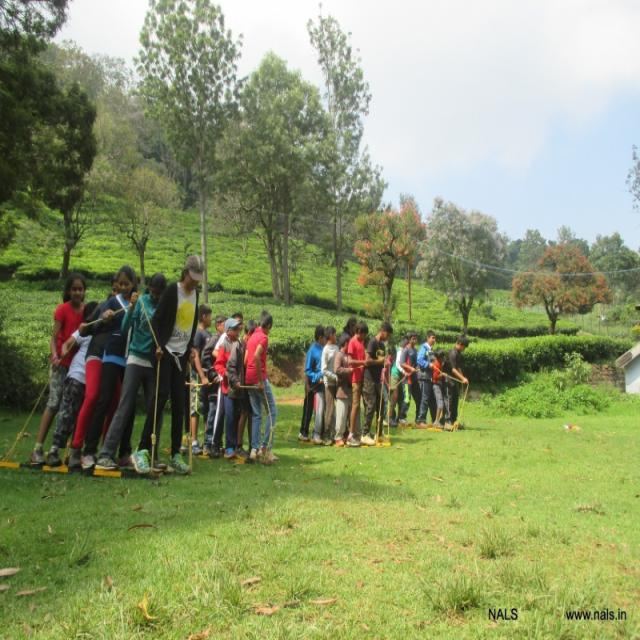body: (128, 252, 206, 477), (93, 270, 168, 472), (78, 264, 140, 472), (64, 273, 126, 473), (28, 270, 86, 465), (42, 300, 102, 468), (242, 307, 280, 465), (207, 312, 244, 458), (225, 319, 258, 462), (358, 320, 393, 447), (212, 317, 242, 461), (186, 305, 213, 459), (201, 316, 229, 456), (332, 331, 362, 448), (345, 320, 370, 447), (304, 322, 328, 447), (304, 325, 327, 444), (320, 324, 341, 447), (385, 336, 412, 429), (398, 330, 424, 424), (415, 330, 438, 428), (446, 335, 469, 430), (378, 344, 397, 426), (431, 343, 449, 428), (342, 315, 360, 337)
